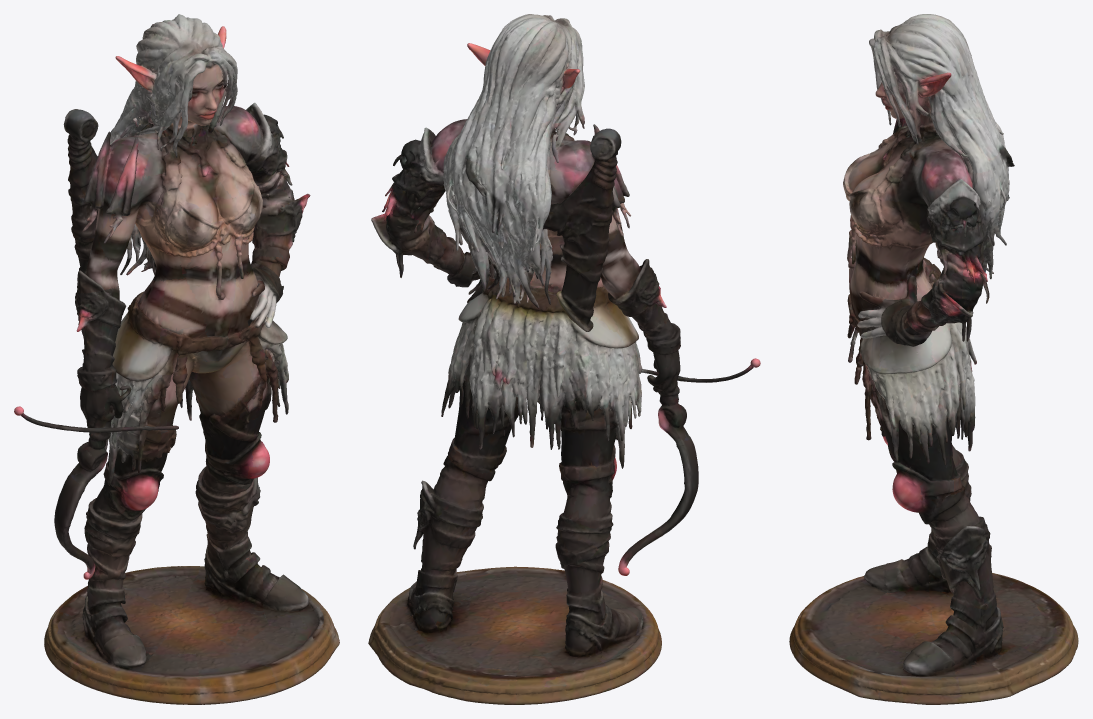
Rendered from elffemalenaked.glb.
3 renders of one model, left to right at view 1: azimuth 30°, elevation 25°; view 2: azimuth 150°, elevation 25°; view 3: azimuth 270°, elevation 25°, orthographic.
Bounding box in the file's own units: 1.09 × 1.9 × 0.8055.
1 material, 1 textured.
